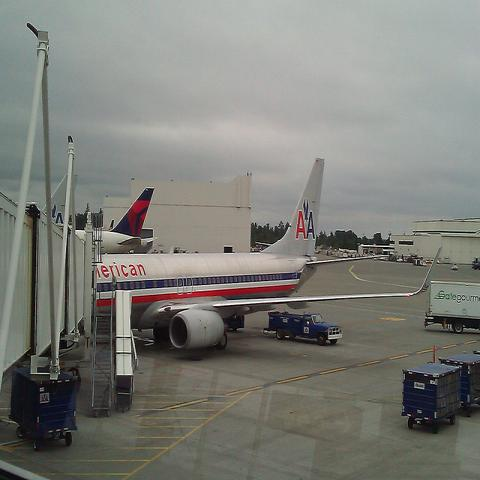truck: (402, 361, 463, 434), (422, 280, 480, 332), (437, 356, 479, 417), (270, 313, 346, 344)
